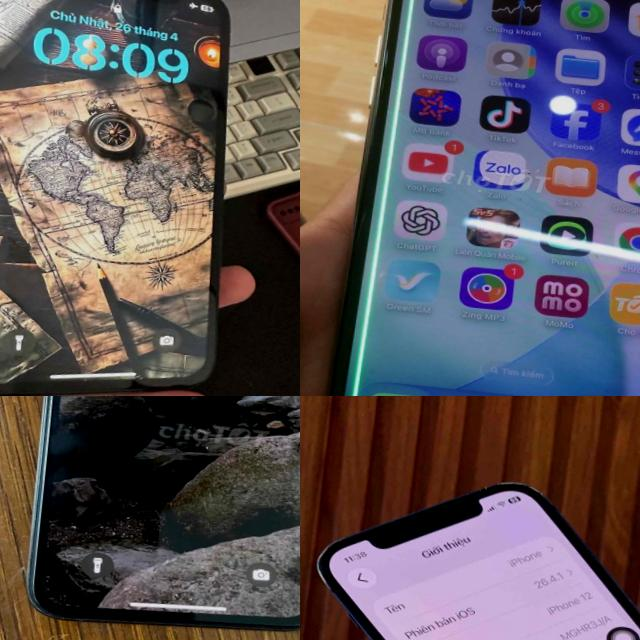gen_11: (328, 0, 640, 396), (5, 396, 300, 634)
gen_12_13: (300, 457, 640, 640)
gen_x_xs: (0, 0, 258, 396)
